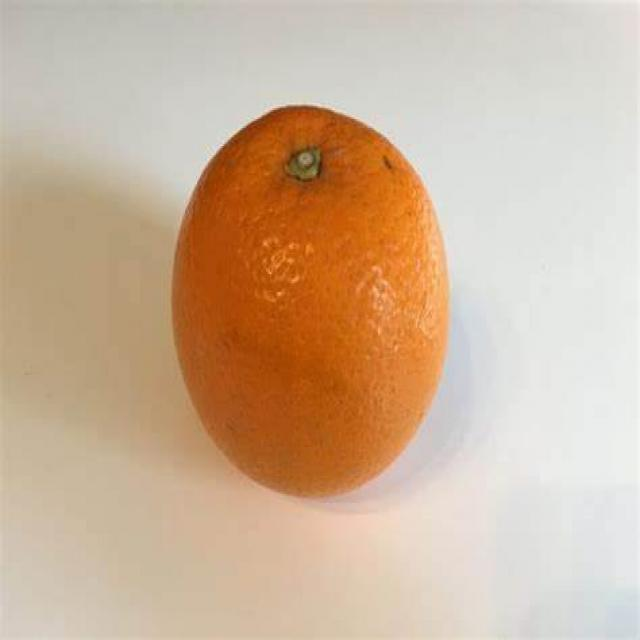Orange: (172, 99, 453, 502)
